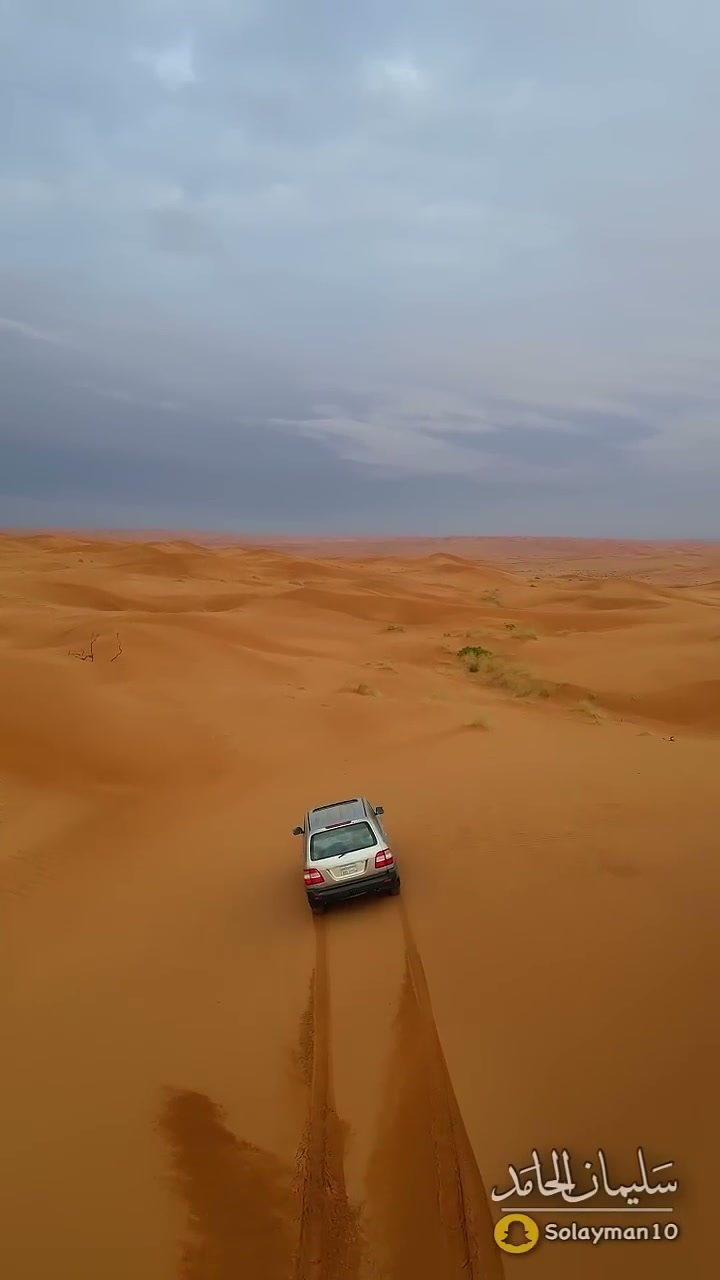vehicle_track: (295, 903, 501, 1279), (400, 904, 502, 1279), (295, 921, 360, 1279)
